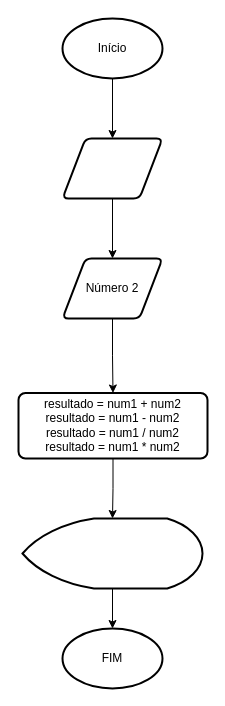
The diagram is 225 pixels wide and 706 high, and some of its shapes have lost their labels. The shapes that lost their labels are listed below. From the top down, each one's box as (x1, y1, x2, y2) in pixels, then its label:
(61, 137, 163, 199): Número 1
(21, 517, 203, 589): Resultados
